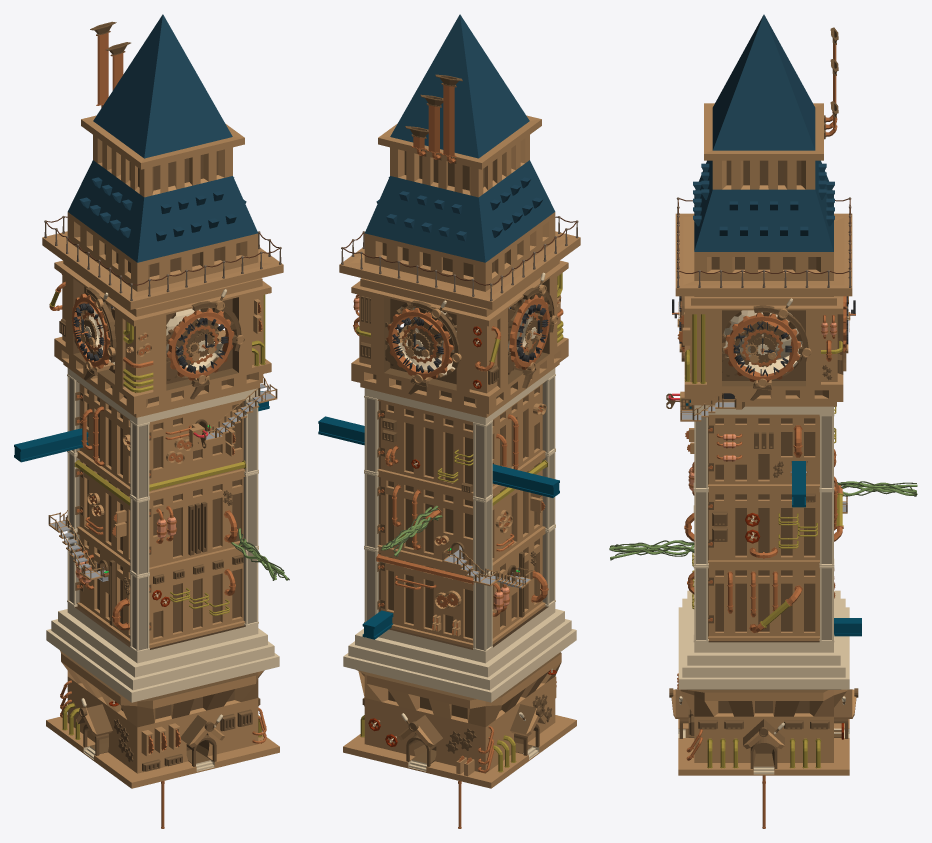
The model's file is WholeV7_-ZFoward.fbx.
The picture shows the model from 3 angles, left to right: view 1: azimuth 30°, elevation 25°; view 2: azimuth 150°, elevation 25°; view 3: azimuth 270°, elevation 25°; orthographic projection.
Parts seen in each view (by area): view 1: Roof.001, Base, OutSideArea, MainPillar, Wall, Wall.004, Wall.008, Wall.011, Wall.007, Wall.003, SmallWindows, InnerRing.004 (+11 smaller); view 2: Roof.001, Base, OutSideArea, MainPillar, Wall.009, Wall.001, Wall.005, Wall.011, Wall.003, Wall.007, SmallWindows, InnerRing.006 (+12 smaller); view 3: Roof.001, Base, OutSideArea, Wall.006, Wall.010, Wall.012, MainPillar, SmallWindows, InnerRing.005, BézierCurve.006, BézierCurve.016, F1InteractablePlatform.004 (+3 smaller).
Part boxes in pixels (<box>): Roof.001: <box>42,14,283,309</box>; Base: <box>46,602,279,788</box>; OutSideArea: <box>54,260,271,425</box>; MainPillar: <box>67,374,258,653</box>; Wall: <box>149,550,245,648</box>; Wall.004: <box>149,473,245,572</box>; Wall.008: <box>149,399,245,496</box>; Wall.011: <box>77,381,130,492</box>; Wall.007: <box>77,455,130,568</box>; Wall.003: <box>77,531,130,644</box>; SmallWindows: <box>79,177,246,241</box>; InnerRing.004: <box>166,308,234,380</box>; Roof.001: <box>339,14,580,309</box>; Base: <box>343,602,576,788</box>; OutSideArea: <box>351,260,568,425</box>; MainPillar: <box>364,374,555,652</box>; Wall.009: <box>377,399,473,496</box>; Wall.001: <box>377,549,473,648</box>; Wall.005: <box>377,473,473,571</box>; Wall.011: <box>492,381,545,492</box>; Wall.003: <box>492,531,545,644</box>; Wall.007: <box>492,455,545,568</box>; SmallWindows: <box>376,177,543,241</box>; InnerRing.006: <box>386,308,453,379</box>; Roof.001: <box>675,14,852,296</box>; Base: <box>671,590,856,775</box>; OutSideArea: <box>683,296,844,414</box>; Wall.006: <box>708,565,819,640</box>; Wall.010: <box>708,489,819,564</box>; Wall.012: <box>708,414,819,488</box>; MainPillar: <box>693,409,834,642</box>; SmallWindows: <box>693,163,834,235</box>; InnerRing.005: <box>724,312,801,382</box>; BézierCurve.006: <box>609,540,694,560</box>; BézierCurve.016: <box>837,481,917,496</box>; F1InteractablePlatform.004: <box>792,461,805,507</box>.
Bounding box in the file's own units: 200 × 643 × 221.
